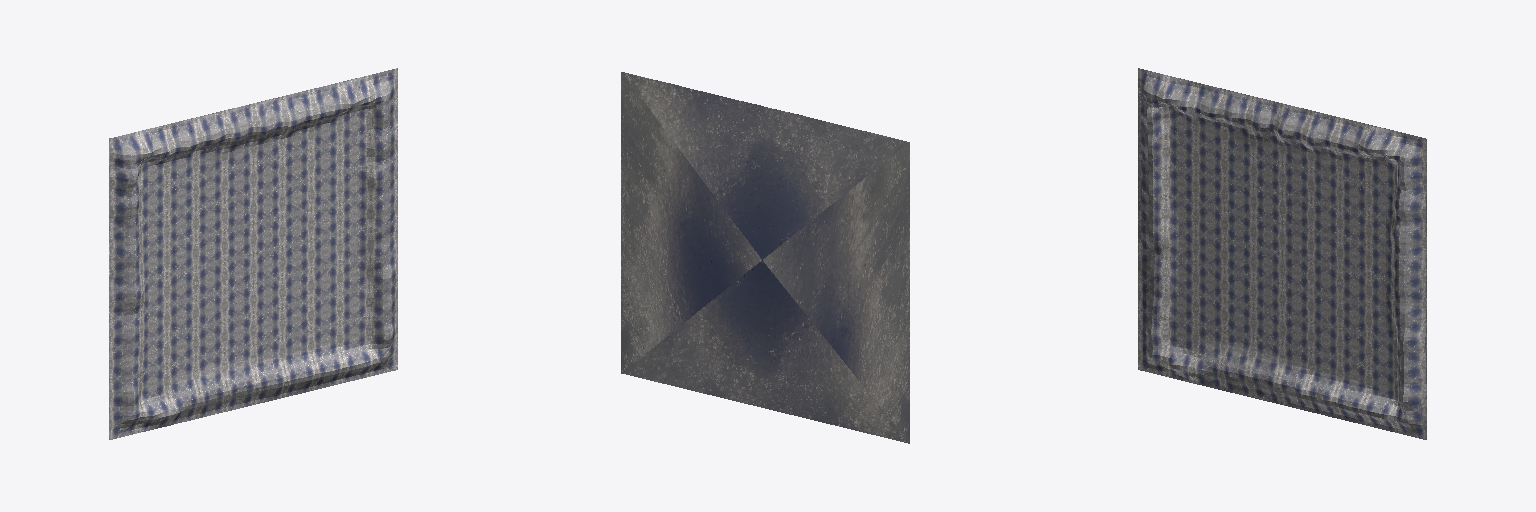
The picture shows the model from 3 angles: view 1: azimuth 30°, elevation 25°; view 2: azimuth 150°, elevation 25°; view 3: azimuth 330°, elevation 25°; orthographic projection.
Visible parts, largest first — view 1: ground2.003, ground14.001, ground7.002, ground6, ground6.002, ground4.003, ground10, ground5.001, ground7.003, ground5, ground10.002, ground15.001 (+28 smaller); view 2: back; view 3: ground4.003, ground14.003, ground2.003, ground7.003, ground3.002, ground12.003, ground13.003, ground15.001, ground16.002, ground13.001, ground16.003, ground7.002 (+28 smaller).
Boxes of the visible parts, box(x1,y1,x2,y2) form: ground2.003: box(109, 130, 152, 179); ground14.001: box(254, 95, 294, 141); ground7.002: box(181, 338, 217, 384); ground6: box(109, 394, 152, 439); ground6.002: box(109, 356, 145, 402); ground4.003: box(362, 68, 397, 115); ground10: box(181, 225, 217, 271); ground5.001: box(181, 263, 217, 309); ground7.003: box(218, 330, 253, 377); ground5: box(181, 301, 217, 346); ground10.002: box(181, 188, 217, 233); ground15.001: box(362, 181, 397, 229); back: box(621, 72, 909, 443); ground4.003: box(1382, 130, 1426, 176); ground14.003: box(1310, 112, 1353, 158); ground2.003: box(1138, 68, 1173, 117); ground7.003: box(1243, 321, 1281, 367); ground3.002: box(1384, 394, 1426, 439); ground12.003: box(1318, 338, 1354, 384); ground13.003: box(1318, 263, 1354, 309); ground15.001: box(1390, 244, 1426, 289); ground16.002: box(1318, 225, 1354, 271); ground13.001: box(1318, 301, 1354, 346); ground16.003: box(1318, 188, 1354, 233); ground7.002: box(1210, 312, 1245, 358).
Size of the model in its own units: 1000 by 1000 by 68.47.
Materials: 1 (1 with a texture image).